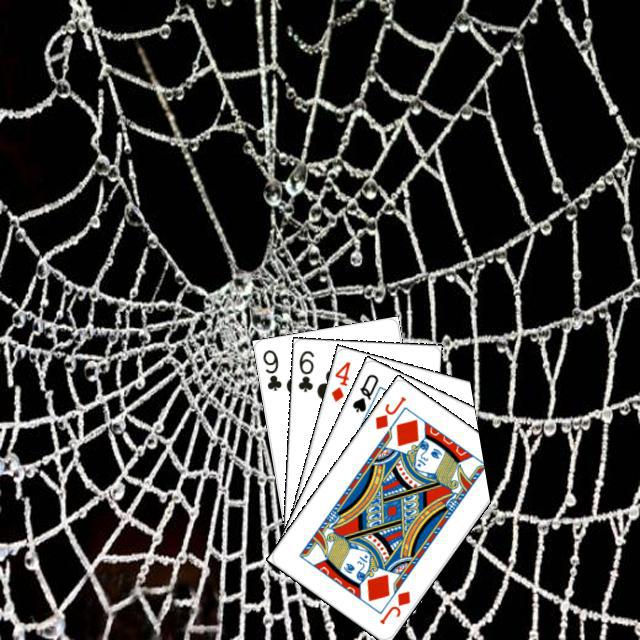4d: (326, 356, 352, 403)
6c: (293, 345, 316, 394)
9c: (258, 345, 283, 393)
Jd: (370, 391, 408, 431), (374, 586, 412, 626)
Qs: (347, 369, 380, 414)
